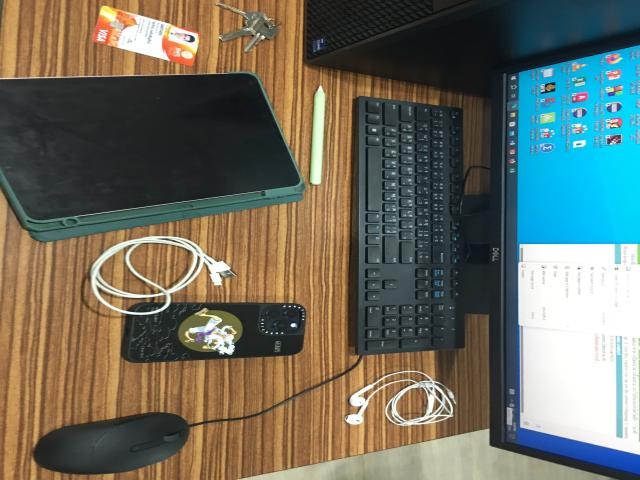Keys: (215, 0, 282, 49)
Mobile phone: (116, 302, 305, 363)
Mouse: (27, 417, 196, 474)
wire: (101, 240, 240, 300), (346, 375, 456, 431)
